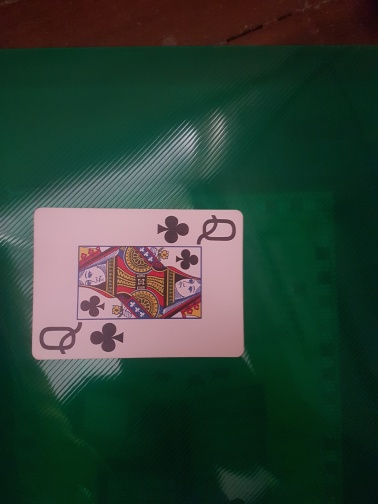queen: (31, 206, 244, 361)
